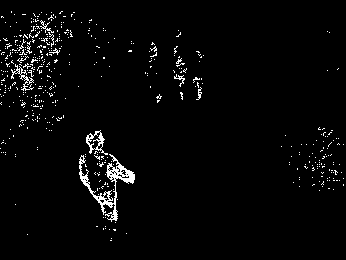person: (77, 130, 135, 224)
